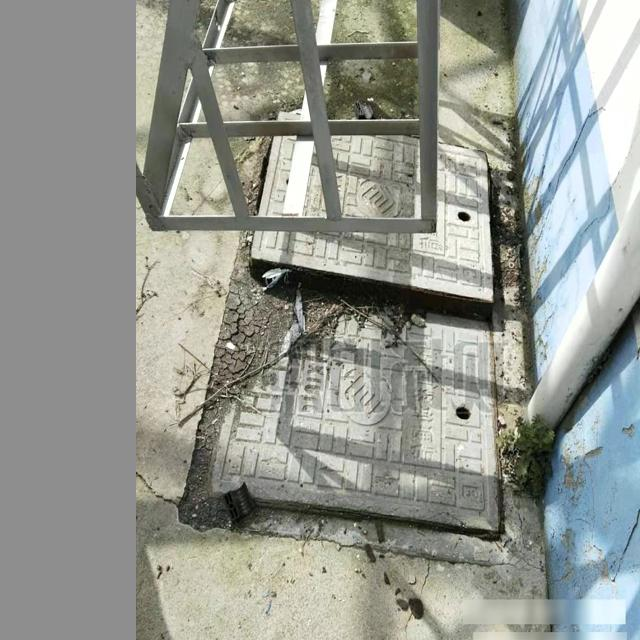uncovered: (183, 116, 507, 557)
